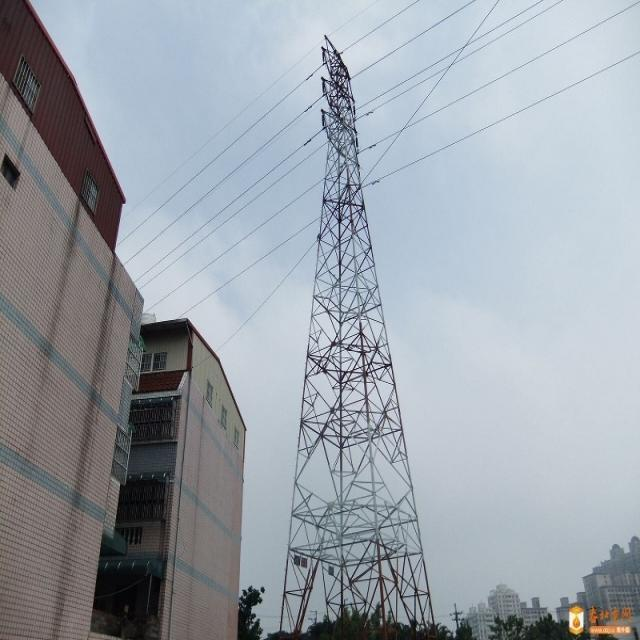non-critical vegetation: (279, 26, 446, 624)
